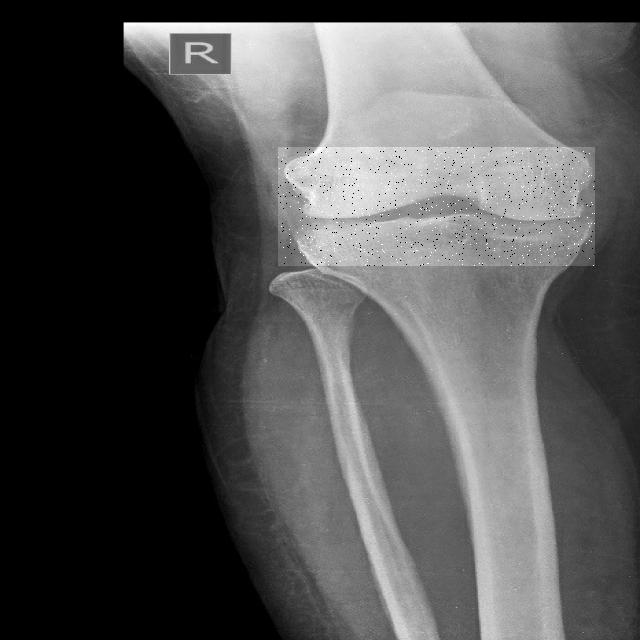normal: (278, 147, 595, 266)
